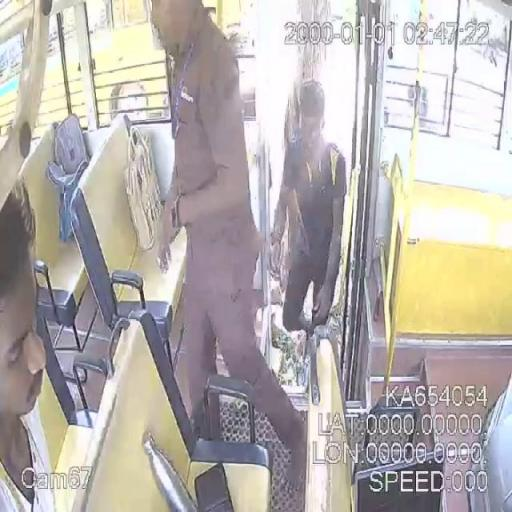persona: (149, 1, 307, 506), (268, 78, 348, 336), (0, 176, 56, 510)
